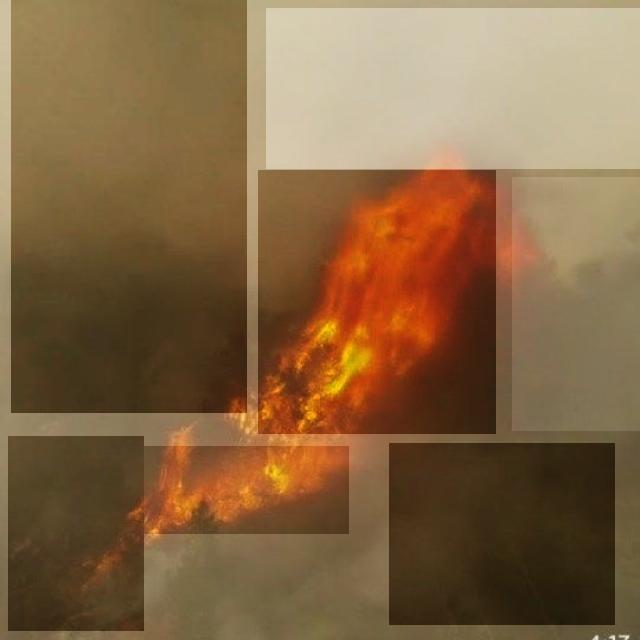Fire: (258, 170, 496, 434), (113, 446, 350, 534)
Smoke: (11, 0, 247, 413), (266, 8, 640, 169), (390, 443, 616, 625), (512, 177, 640, 431), (8, 436, 144, 631)
